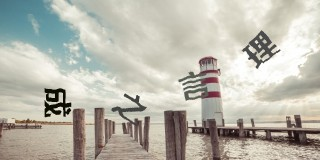之: (110, 92, 148, 126)
成: (42, 85, 72, 119)
理: (242, 30, 281, 69)
言: (178, 70, 210, 100)
